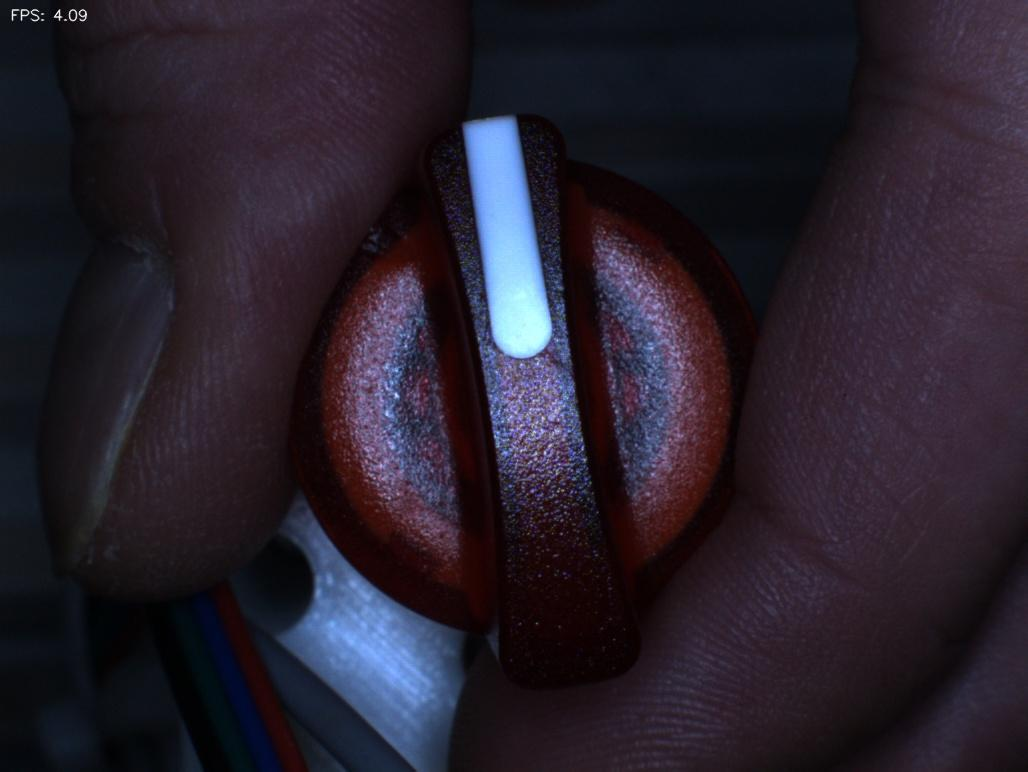Choc: (335, 193, 412, 275)
